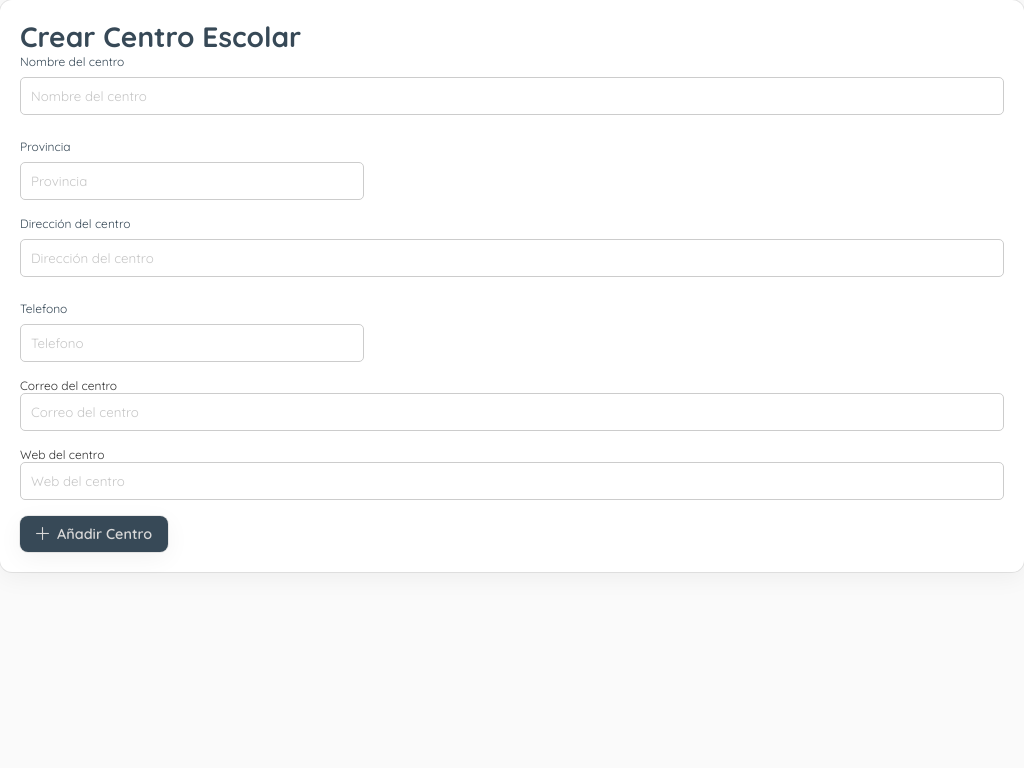
Test: AddSchoolCenter Component › debe mostrar error si se dejan campos obligatorios vacíos
Type "Centro 1" into the field labelled "Nombre del centro" at (512, 96), box top-left (20, 77), bottom-right (1004, 115)
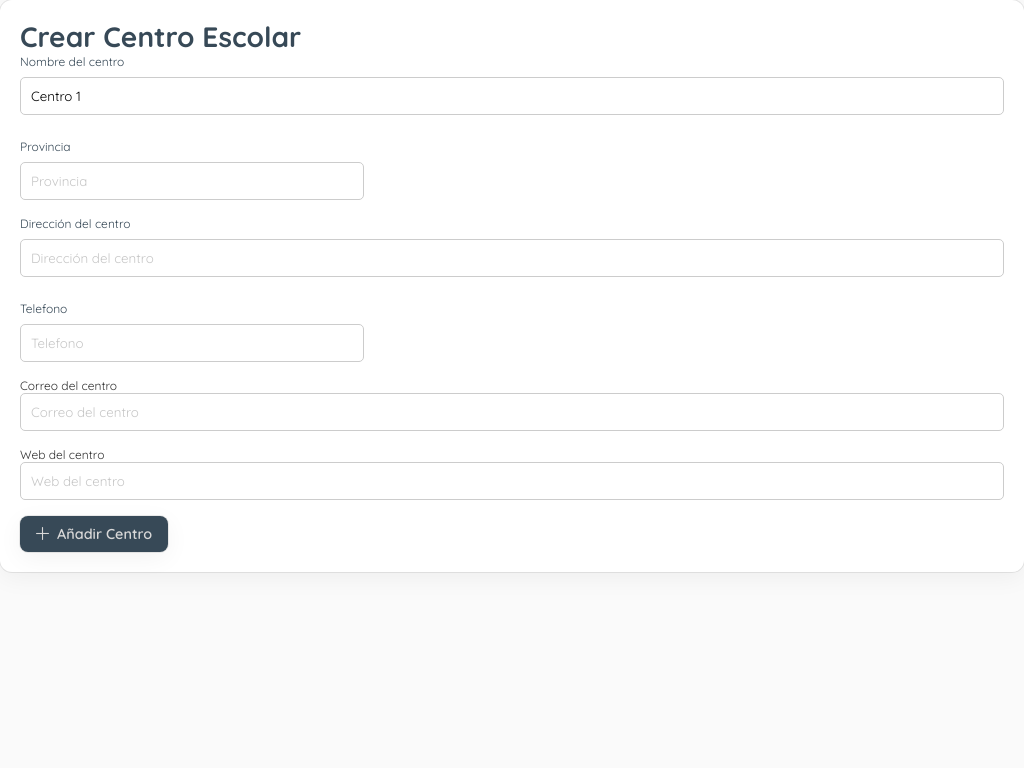
Type "Provincia 1" into the field labelled "Provincia" at (192, 181), box top-left (20, 162), bottom-right (364, 200)
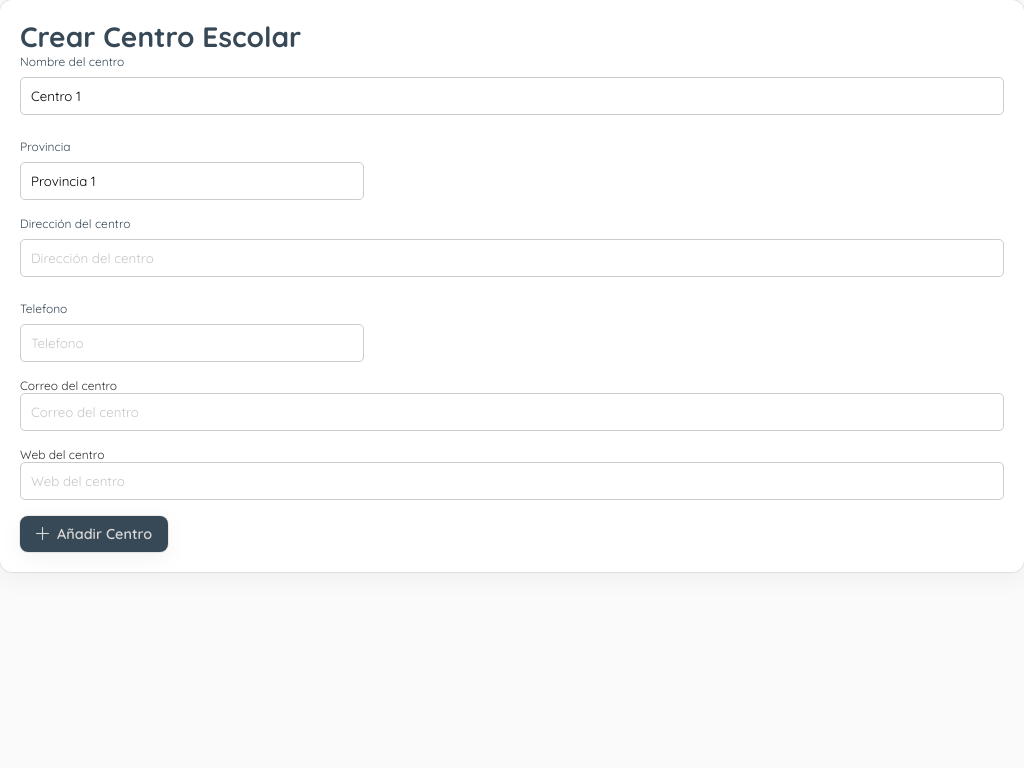
Click the button "Añadir Centro" at (94, 534), box top-left (20, 516), bottom-right (168, 552)
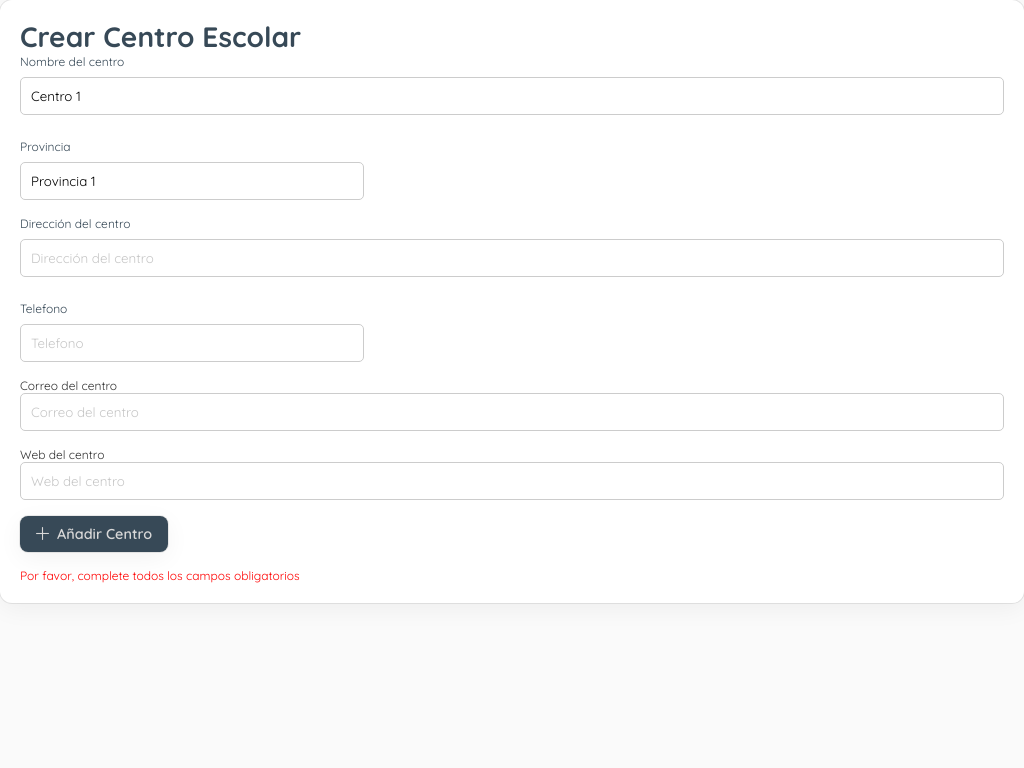
Expected: the message reads "Por favor, complete todos los campos obligatorios", top-left (20, 568), bottom-right (300, 583)
